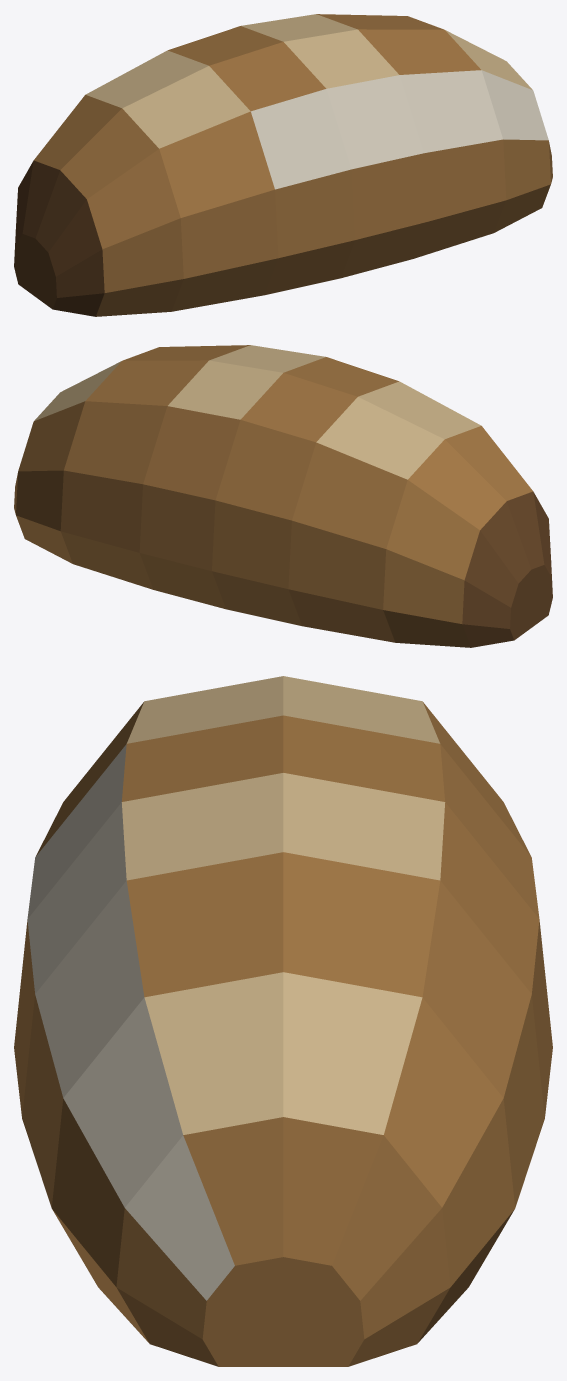
File: produkt.fixture.glb
3 renders of one model, top to bottom at view 1: azimuth 30°, elevation 25°; view 2: azimuth 150°, elevation 25°; view 3: azimuth 270°, elevation 25°, orthographic. The views are drawn at different scales.
Size of the model in its own units: 0.2 by 0.075 by 0.1.
